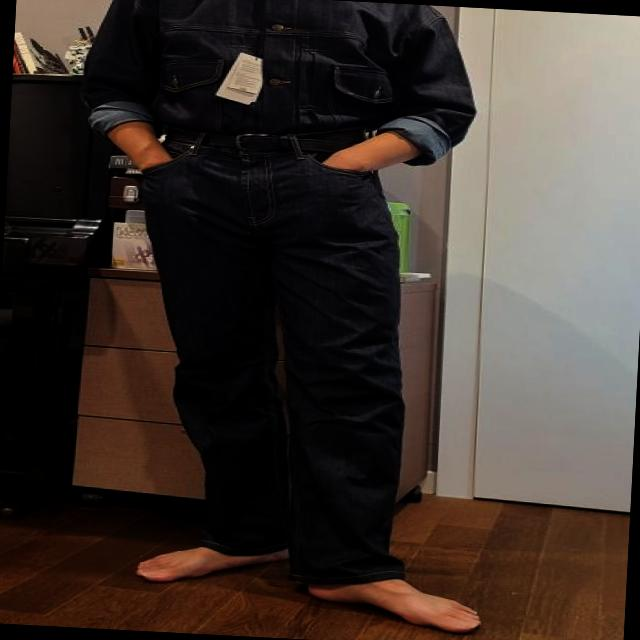denimpants: (124, 128, 420, 598)
shirt: (83, 0, 482, 165)
